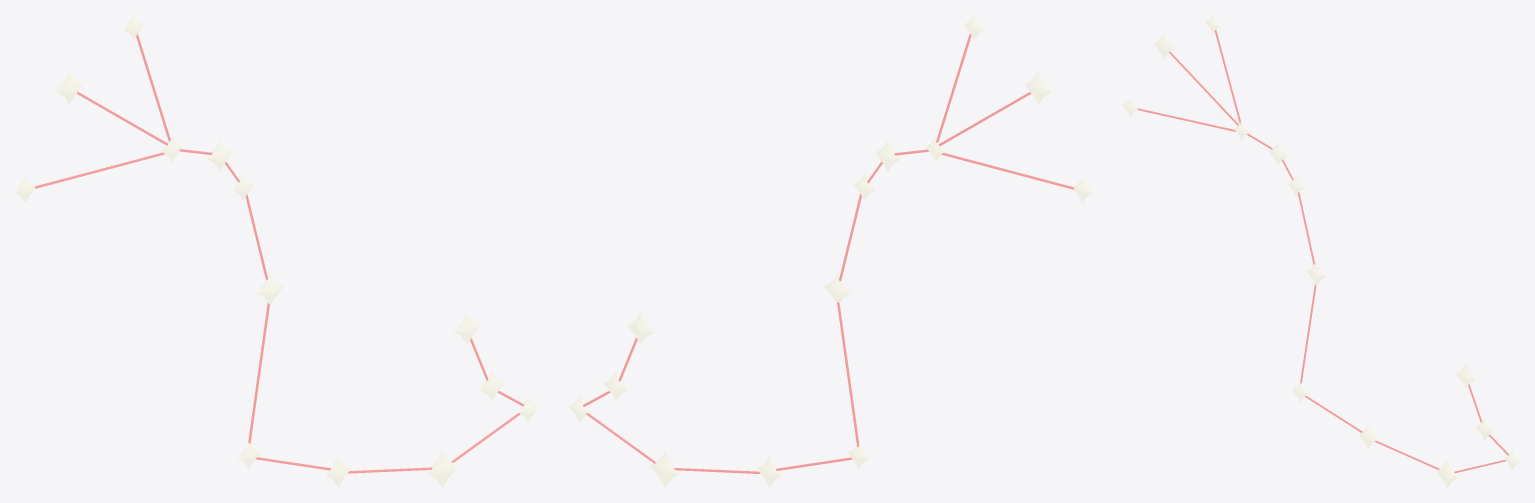
File: sozvezdiya-scorpion.glb
3 views of the same model, side by side, from view 1: azimuth 30°, elevation 25°; view 2: azimuth 150°, elevation 25°; view 3: azimuth 330°, elevation 25° (orthographic). The views are drawn at different scales.
Parts seen in each view (by area): view 1: Cylinder; view 2: Cylinder; view 3: Cylinder.
Boxes of the visible parts, <box> form: Cylinder: <box>34,34,523,473</box>; Cylinder: <box>583,33,1074,473</box>; Cylinder: <box>1137,29,1508,473</box>.
Bounding box in the file's own units: 0.2749 × 0.2751 × 0.00745.
